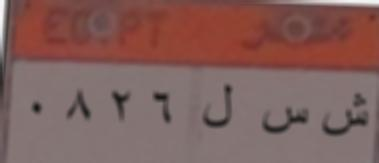0: (24, 97, 52, 125)
2: (110, 86, 135, 126)
6: (148, 90, 177, 129)
8: (62, 85, 95, 128)
laam: (199, 78, 236, 134)
seen: (260, 98, 312, 142)
sheen: (318, 84, 371, 144)
